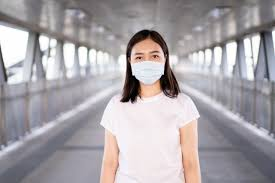with_mask: (129, 34, 170, 87)
